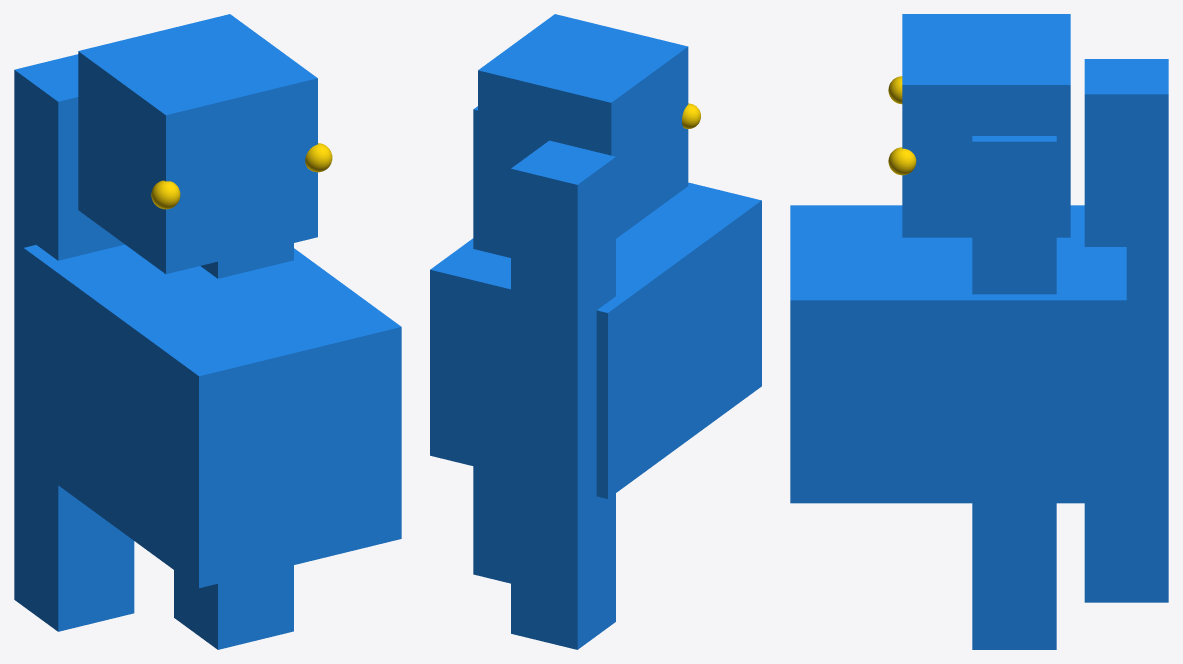
Rendered from robot.glb.
3 views of the same model, side by side, from view 1: azimuth 30°, elevation 25°; view 2: azimuth 150°, elevation 25°; view 3: azimuth 270°, elevation 25° (orthographic). The views are drawn at different scales.
Parts seen in each view (by area): view 1: torso, head, leg_left, arm_left, leg_right, arm_right, eye_left, eye_right; view 2: torso, head, arm_left, leg_left, leg_right, arm_right; view 3: torso, head, arm_left, leg_left, arm_right, leg_right, eye_right.
Part boxes in pixels (bbox=[...]): torso: bbox=[23, 244, 401, 588]; head: bbox=[78, 14, 317, 274]; leg_left: bbox=[14, 335, 134, 631]; arm_left: bbox=[14, 54, 124, 394]; leg_right: bbox=[174, 565, 293, 649]; arm_right: bbox=[201, 243, 293, 278]; eye_left: bbox=[151, 180, 180, 209]; eye_right: bbox=[305, 143, 332, 172]; torso: bbox=[430, 182, 761, 498]; head: bbox=[478, 14, 688, 238]; arm_left: bbox=[511, 140, 615, 460]; leg_left: bbox=[511, 401, 615, 649]; leg_right: bbox=[473, 466, 510, 583]; arm_right: bbox=[473, 106, 510, 257]; torso: bbox=[790, 205, 1126, 503]; head: bbox=[902, 14, 1070, 237]; arm_left: bbox=[1084, 59, 1168, 387]; leg_left: bbox=[1084, 348, 1168, 602]; arm_right: bbox=[972, 136, 1056, 294]; leg_right: bbox=[972, 503, 1056, 649]; eye_right: bbox=[888, 147, 916, 175].
Size of the model in its own units: 0.4 by 1.1 by 0.675.
